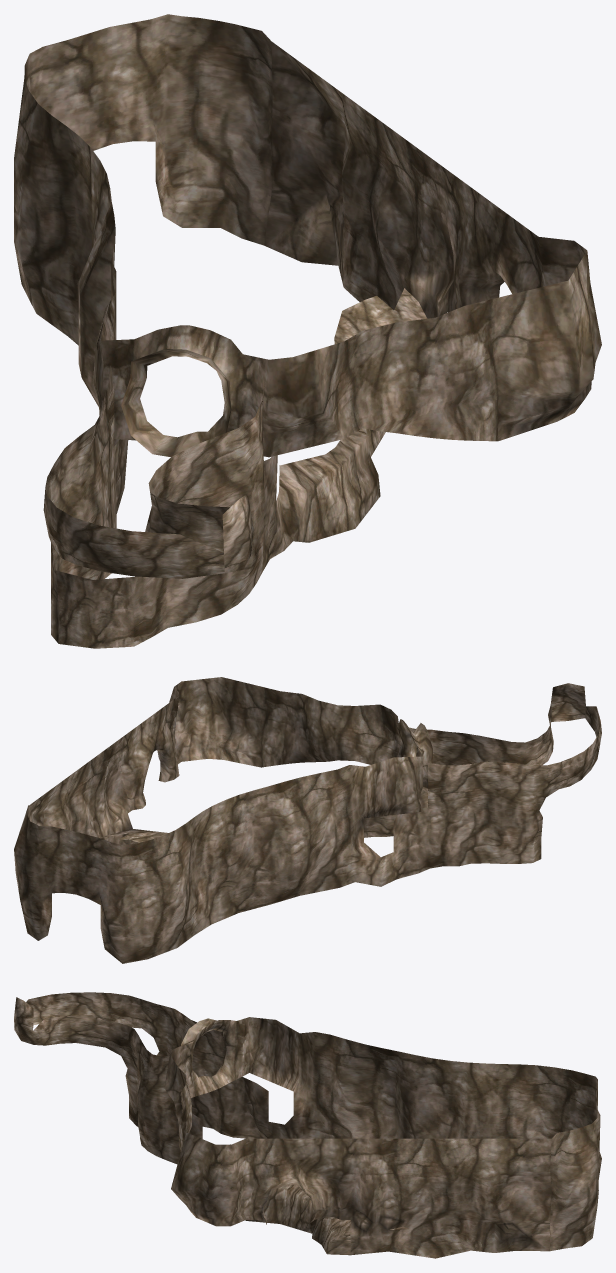
File: EKH_BARRELROOM_PS_JA1_JA_OBJECT47.fbx
The picture shows the model from 3 angles, top to bottom: view 1: azimuth 30°, elevation 25°; view 2: azimuth 150°, elevation 25°; view 3: azimuth 270°, elevation 25°; orthographic projection. The views are drawn at different scales.
Visible parts, largest first — view 1: EKH_BARRELROOM_PS_JA1_JA_OBJECT47; view 2: EKH_BARRELROOM_PS_JA1_JA_OBJECT47; view 3: EKH_BARRELROOM_PS_JA1_JA_OBJECT47.
Part boxes in pixels (x1,y1,x2,y2): EKH_BARRELROOM_PS_JA1_JA_OBJECT47: (14, 14, 601, 648); EKH_BARRELROOM_PS_JA1_JA_OBJECT47: (14, 677, 601, 963); EKH_BARRELROOM_PS_JA1_JA_OBJECT47: (14, 992, 601, 1258).
Size of the model in its own units: 279525 by 102695 by 393182.
1 material, 1 textured.
